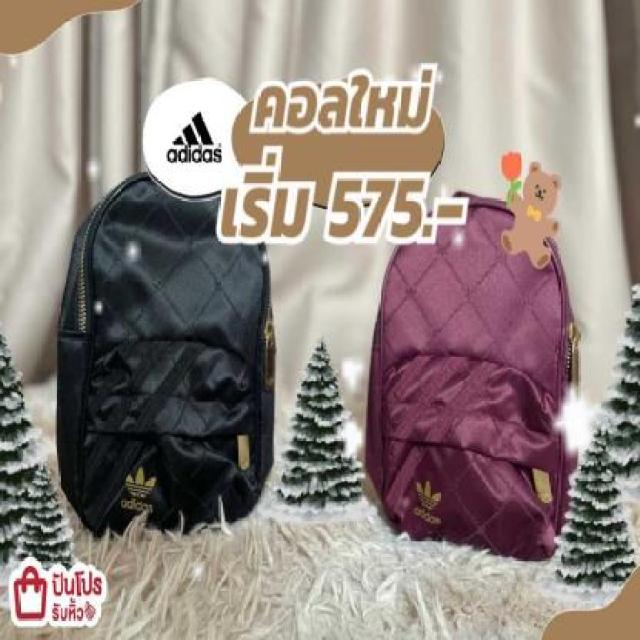Bag: (56, 106, 322, 536), (368, 149, 583, 597)
